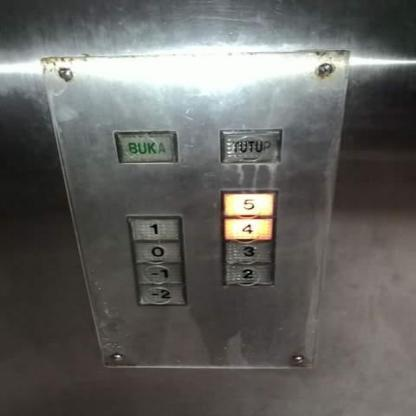-1: (132, 260, 186, 284)
-2: (133, 280, 189, 308)
0: (129, 238, 184, 263)
1: (127, 215, 181, 241)
2: (219, 260, 276, 287)
3: (219, 237, 276, 262)
4: (219, 214, 276, 240)
5: (220, 188, 278, 216)
text: (112, 131, 176, 164), (218, 129, 281, 162)
